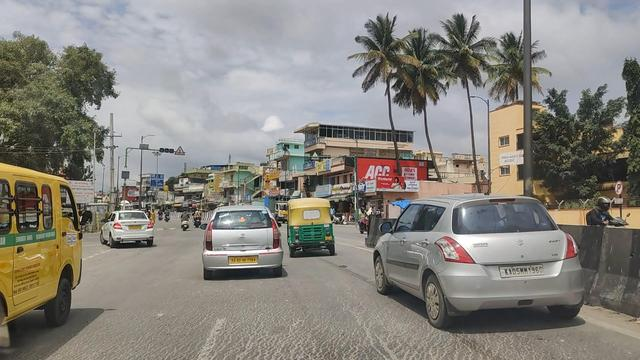LMV: (372, 182, 594, 338), (0, 134, 83, 360), (194, 202, 294, 284), (282, 191, 348, 268), (100, 203, 157, 255)
